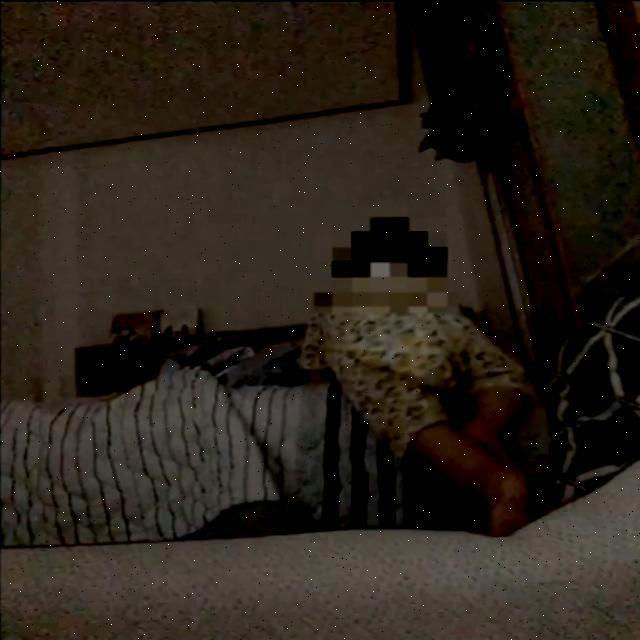child: (301, 215, 545, 537)
